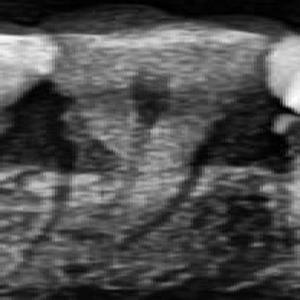tooth: (38, 6, 273, 240)
